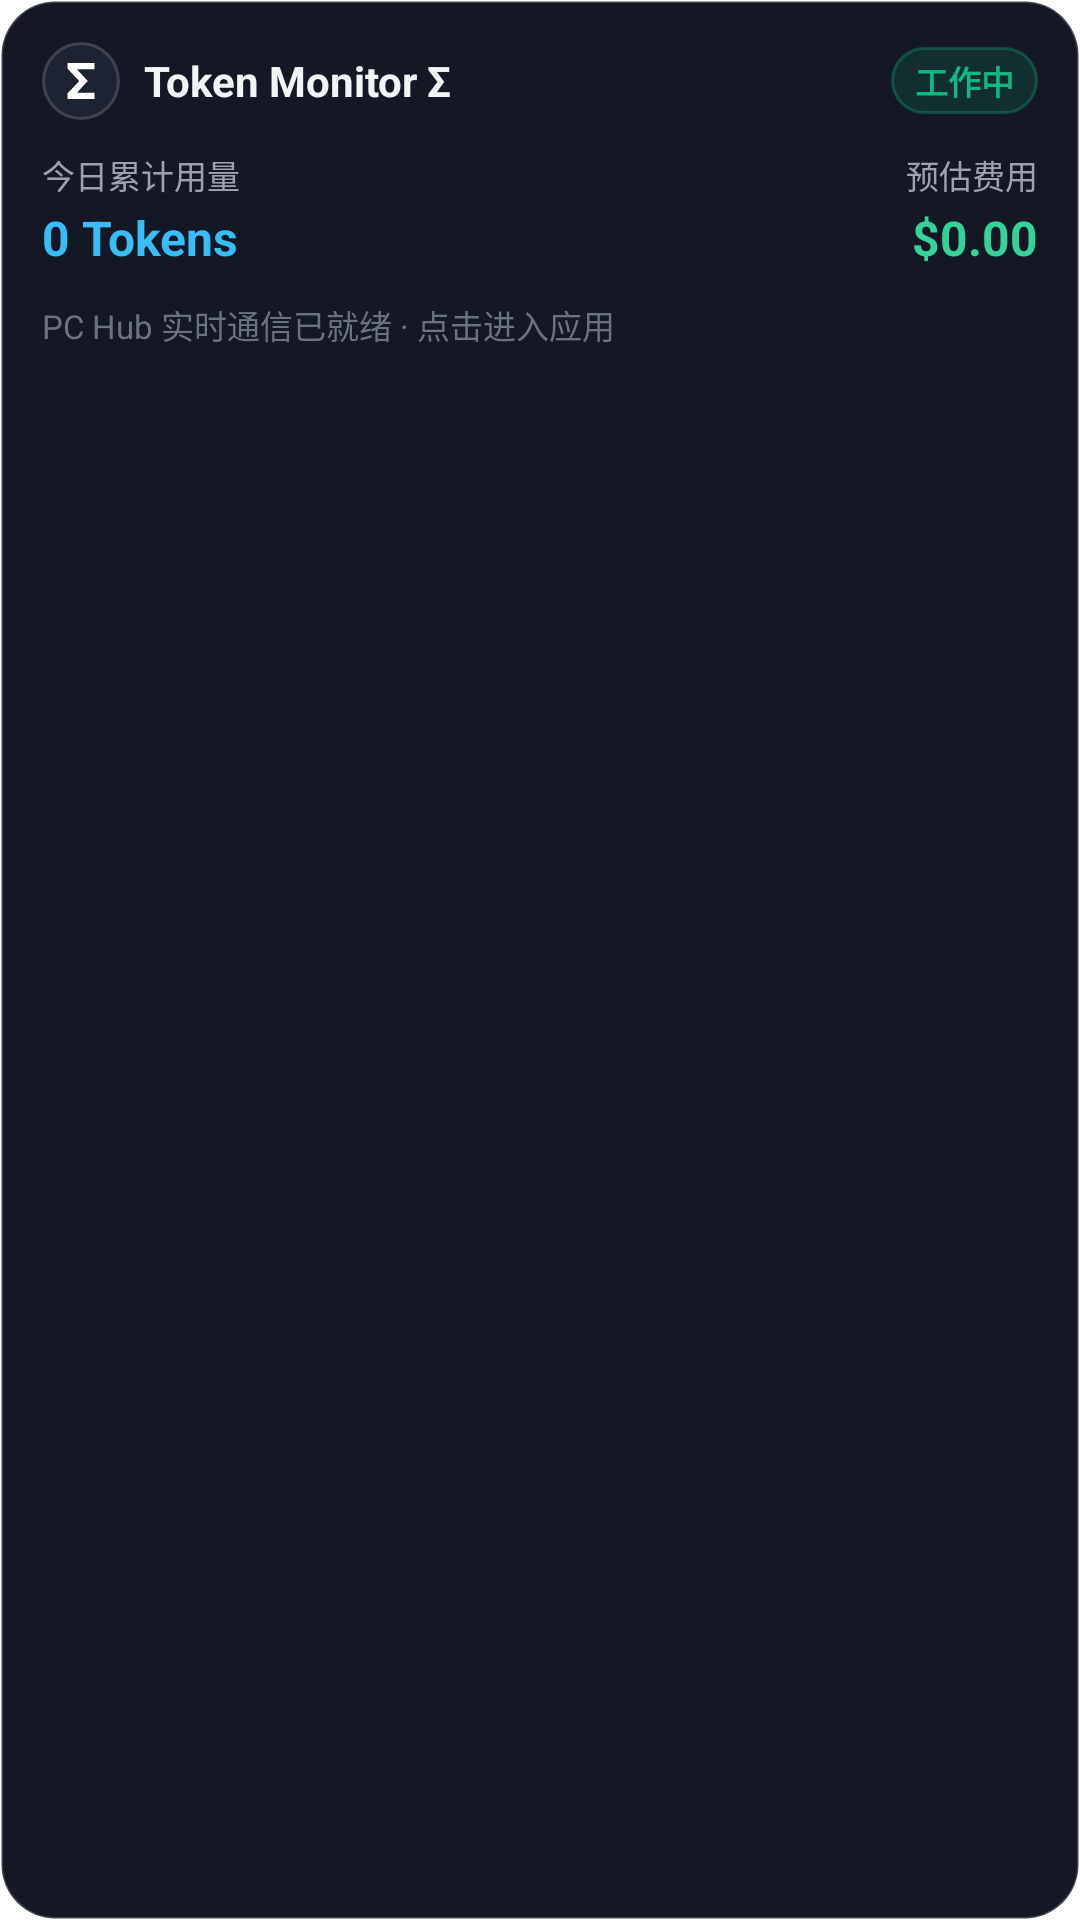

Screen size 1080 × 1920. Icon name, then its center in pixels as point (x, y):
brand token monitor: point (81, 81)
